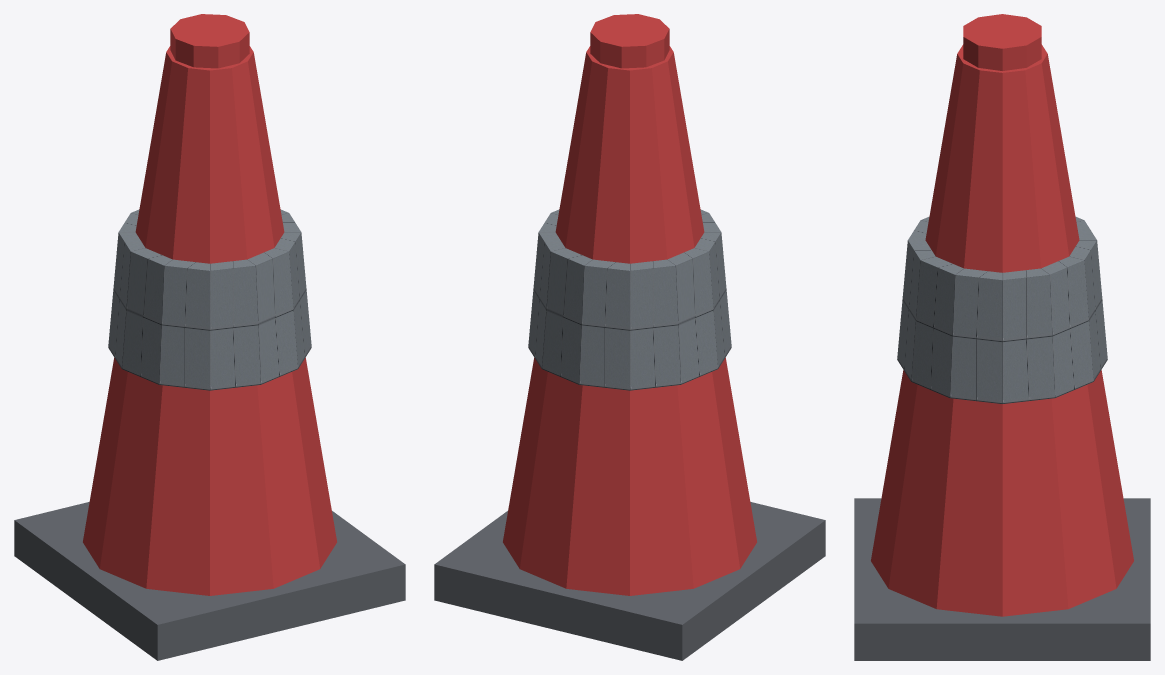
File: fire-and-emergency-services-road-cone-de6533ce__29932.glb
3 views of the same model, side by side, from view 1: azimuth 30°, elevation 25°; view 2: azimuth 150°, elevation 25°; view 3: azimuth 270°, elevation 25° (orthographic). The views are drawn at different scales.
Visible parts, largest first — view 1: road-cone; view 2: road-cone; view 3: road-cone.
Boxes of the visible parts, x1,y1,x2,y2 form: road-cone: [14, 14, 405, 660]; road-cone: [434, 14, 825, 660]; road-cone: [854, 14, 1150, 660].
Bounding box in the file's own units: 0.36 × 0.76 × 0.36.
Materials: 3 (1 with a texture image).
